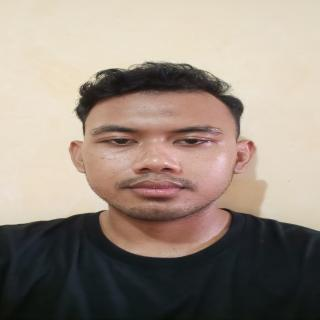Netral: (82, 85, 247, 224)
